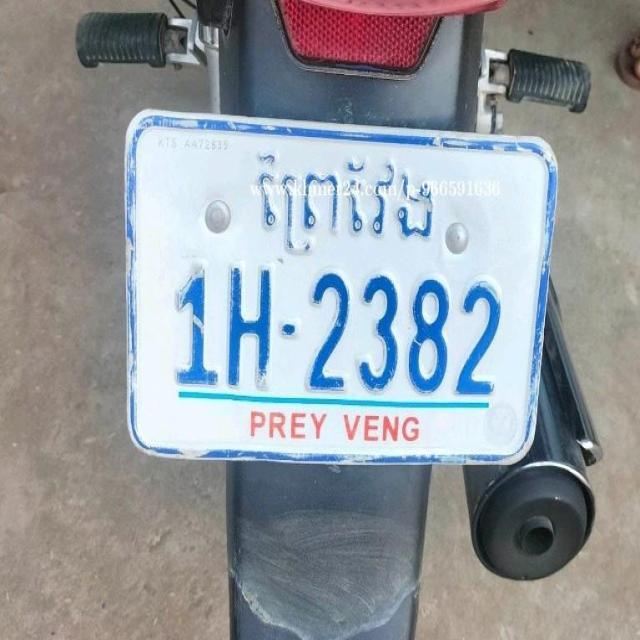Prey_Veng: (251, 148, 434, 258)
